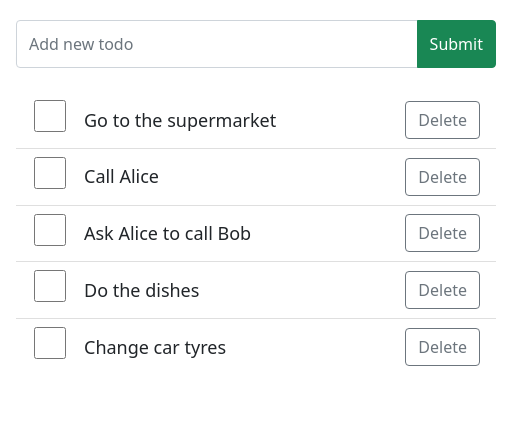
Scenario: App › it should add a new todo when text is inputted and submit pressed
Expected: the number of list items with class "todo" is 5, [16,92,496,149]; [16,149,496,206]; [16,206,496,262]; [16,262,496,319]; [16,319,496,375]
Type "remeber to add tests" into the field named "New todo name".
click(217, 44); type("remeber to add tests")  # box [16,20,418,68]
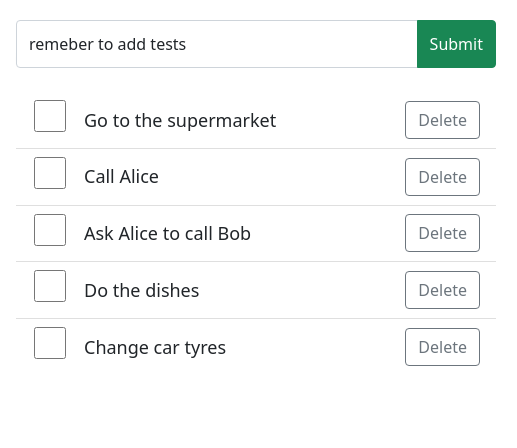
Click the button with aria-label "submit todo".
click(456, 44)  # box [417,20,496,68]
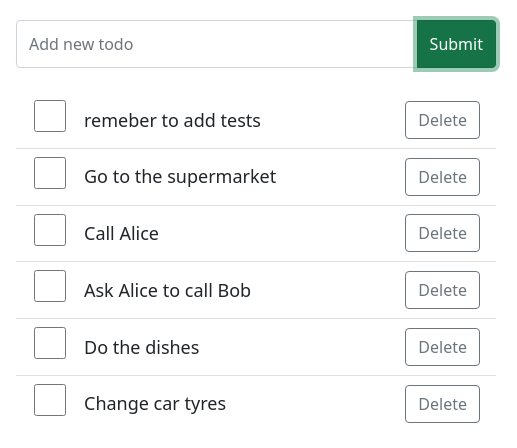
Expected: the number of list items with class "todo" is 6, [16,92,496,149]; [16,149,496,206]; [16,206,496,262]; [16,262,496,319]; [16,319,496,376]; [16,376,496,432]
